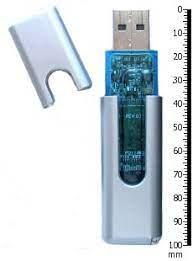Flash-drive: (103, 7, 166, 246)
